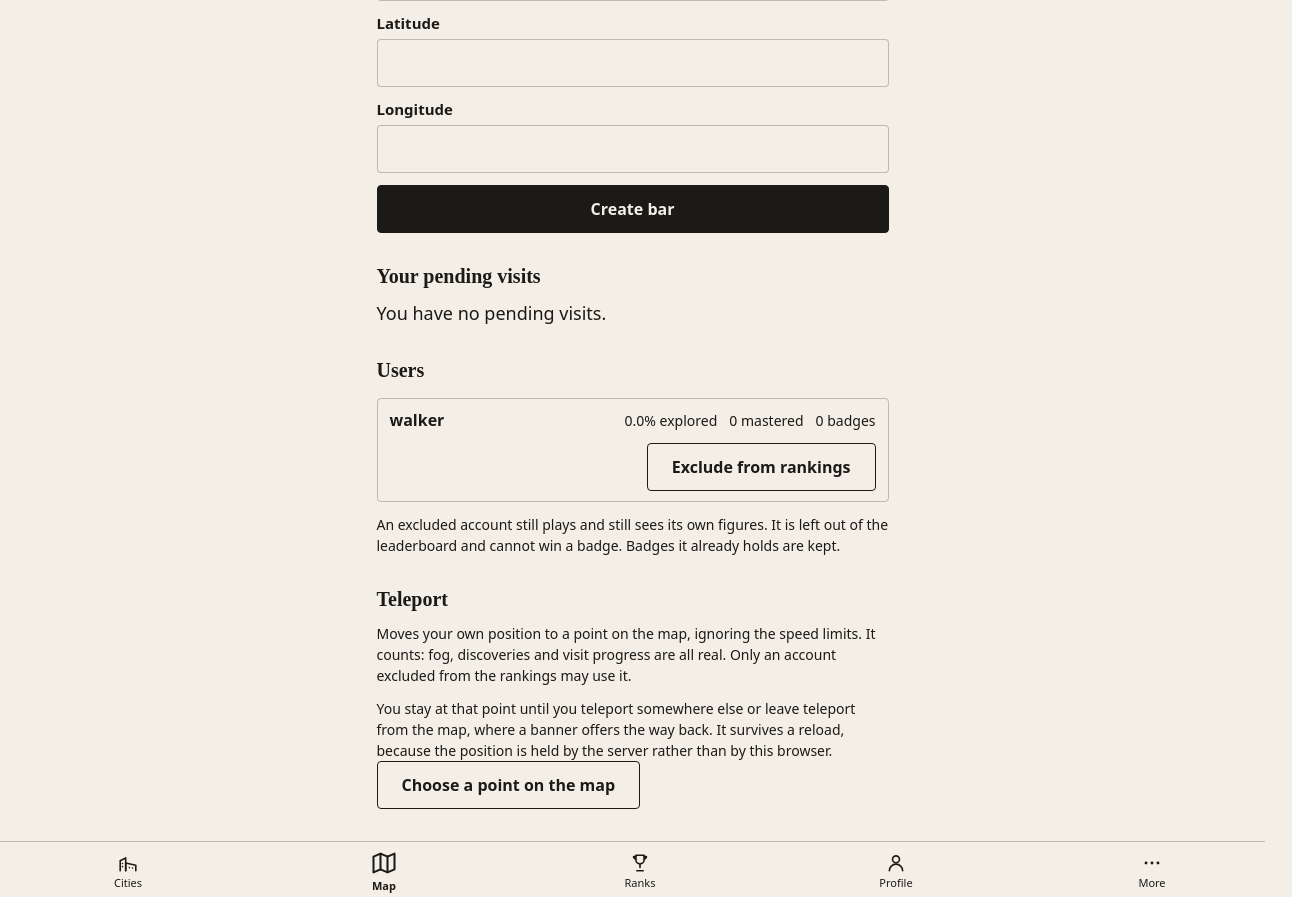
it: admin ranking exclusion › excludes an account and reflects the server response in the row
(page scrolled)
Click the button with class "admin-user-row__toggle" at (761, 467), box [647,443,876,491]
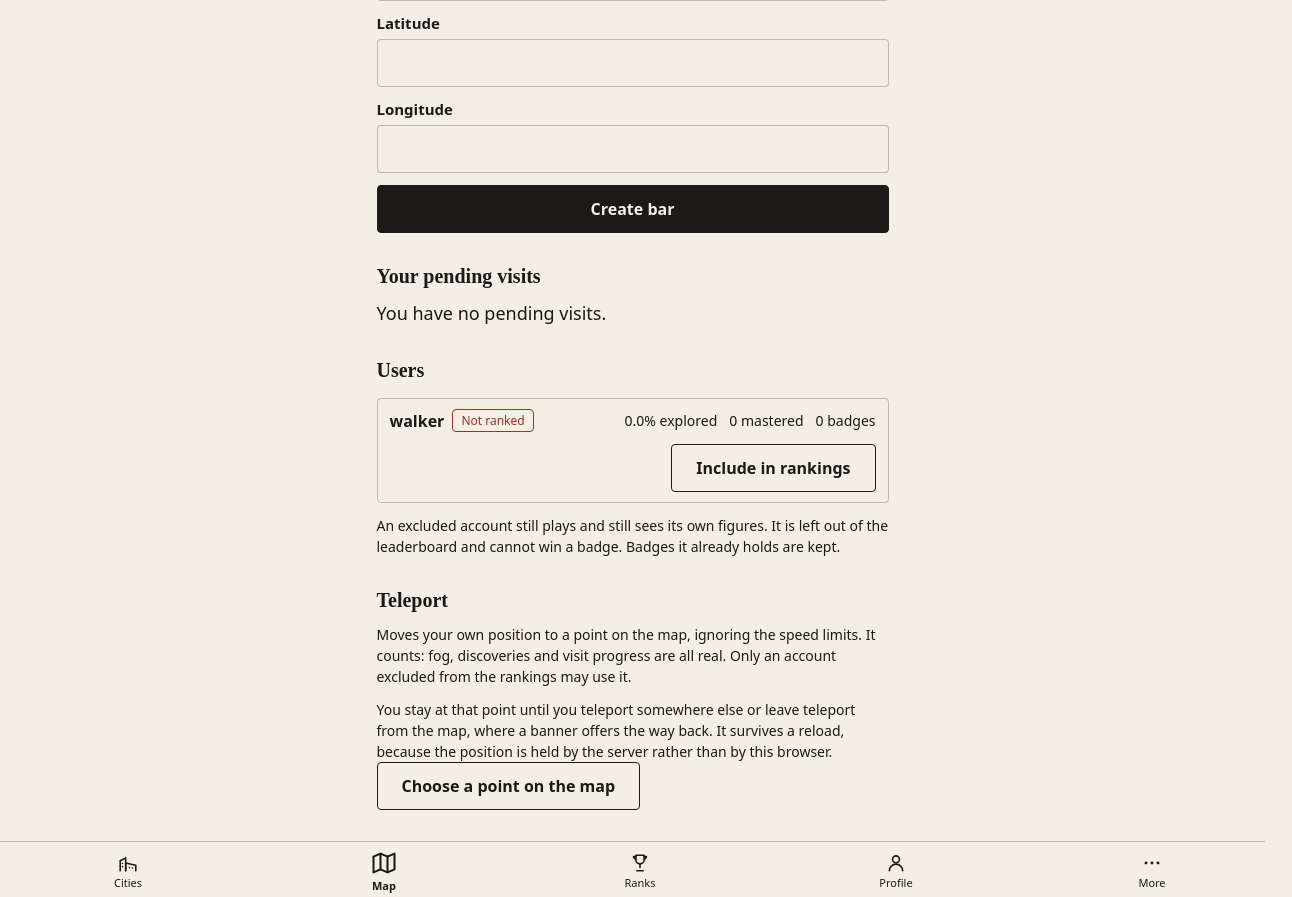
Expected: the button with class "admin-user-row__toggle" reads "Include in rankings", [671,444,876,492]
Expected: the text with class "admin-bar-row__tag--hidden" reads "Not ranked", [461,412,525,429]
